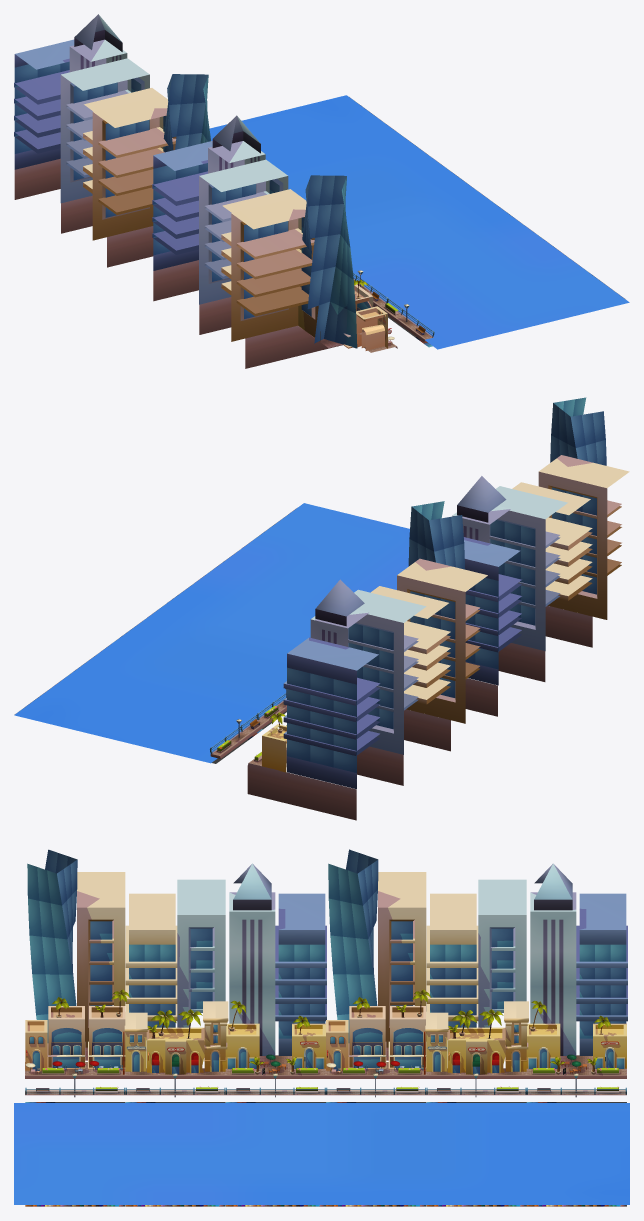
File: City.fbx
3 renders of one model, top to bottom at view 1: azimuth 30°, elevation 25°; view 2: azimuth 150°, elevation 25°; view 3: azimuth 270°, elevation 25°, orthographic. The views are drawn at different scales.
Visible parts, largest first — view 1: Plane, 1.104_Dubai_high_03_right.001, 1.104_Dubai_high_03_right, 1.104_Dubai_high_01_right, 1.104_Dubai_high_01_right.001, 1.104_Dubai_high_02_right.001, 1.104_Dubai_high_02_right, 1.104_Dubai_high_03_left.001; view 2: Plane, 1.104_Dubai_high_01_right, 1.104_Dubai_high_02_right.001, 1.104_Dubai_high_02_right, 1.104_Dubai_high_03_right.001, 1.104_Dubai_high_03_right, 1.104_Dubai_high_01_right.001, 1.104_Dubai_high_01_left; view 3: Plane, 1.104_Dubai_high_03_right.001, 1.104_Dubai_high_03_right, 1.104_Dubai_high_02_right.001, 1.104_Dubai_high_02_right, 1.104_Dubai_high_01_right, 1.104_Dubai_high_01_right.001, 1.104_Dubai_high_02_left.001, 1.104_Dubai_high_02_left, 1.104_Dubai_high_03_left.001, 1.104_Dubai_high_01_left, 1.104_Dubai_high_03_left (+1 smaller).
Part boxes in pixels (x1,y1,x2,y2): Plane: [209, 95, 629, 349]; 1.104_Dubai_high_03_right.001: [231, 175, 397, 368]; 1.104_Dubai_high_03_right: [92, 74, 210, 267]; 1.104_Dubai_high_01_right: [14, 14, 127, 199]; 1.104_Dubai_high_01_right.001: [152, 115, 265, 301]; 1.104_Dubai_high_02_right.001: [199, 159, 306, 334]; 1.104_Dubai_high_02_right: [60, 58, 167, 233]; 1.104_Dubai_high_03_left.001: [378, 266, 624, 347]; Plane: [14, 503, 409, 763]; 1.104_Dubai_high_01_right: [247, 579, 380, 820]; 1.104_Dubai_high_02_right.001: [489, 482, 592, 681]; 1.104_Dubai_high_02_right: [348, 586, 450, 785]; 1.104_Dubai_high_03_right.001: [538, 397, 629, 647]; 1.104_Dubai_high_03_right: [397, 501, 487, 751]; 1.104_Dubai_high_01_right.001: [452, 476, 521, 716]; 1.104_Dubai_high_01_left: [14, 681, 267, 763]; Plane: [14, 1103, 629, 1204]; 1.104_Dubai_high_03_right.001: [25, 849, 130, 1078]; 1.104_Dubai_high_03_right: [326, 849, 430, 1078]; 1.104_Dubai_high_02_right.001: [124, 879, 228, 1078]; 1.104_Dubai_high_02_right: [425, 879, 528, 1078]; 1.104_Dubai_high_01_right: [526, 863, 627, 1078]; 1.104_Dubai_high_01_right.001: [225, 863, 326, 1078]; 1.104_Dubai_high_02_left.001: [125, 1073, 225, 1206]; 1.104_Dubai_high_02_left: [426, 1073, 526, 1206]; 1.104_Dubai_high_03_left.001: [25, 1073, 125, 1206]; 1.104_Dubai_high_01_left: [526, 1073, 626, 1206]; 1.104_Dubai_high_03_left: [326, 1073, 426, 1206].
Bounding box in the file's own units: 48587 × 26518 × 68403.
